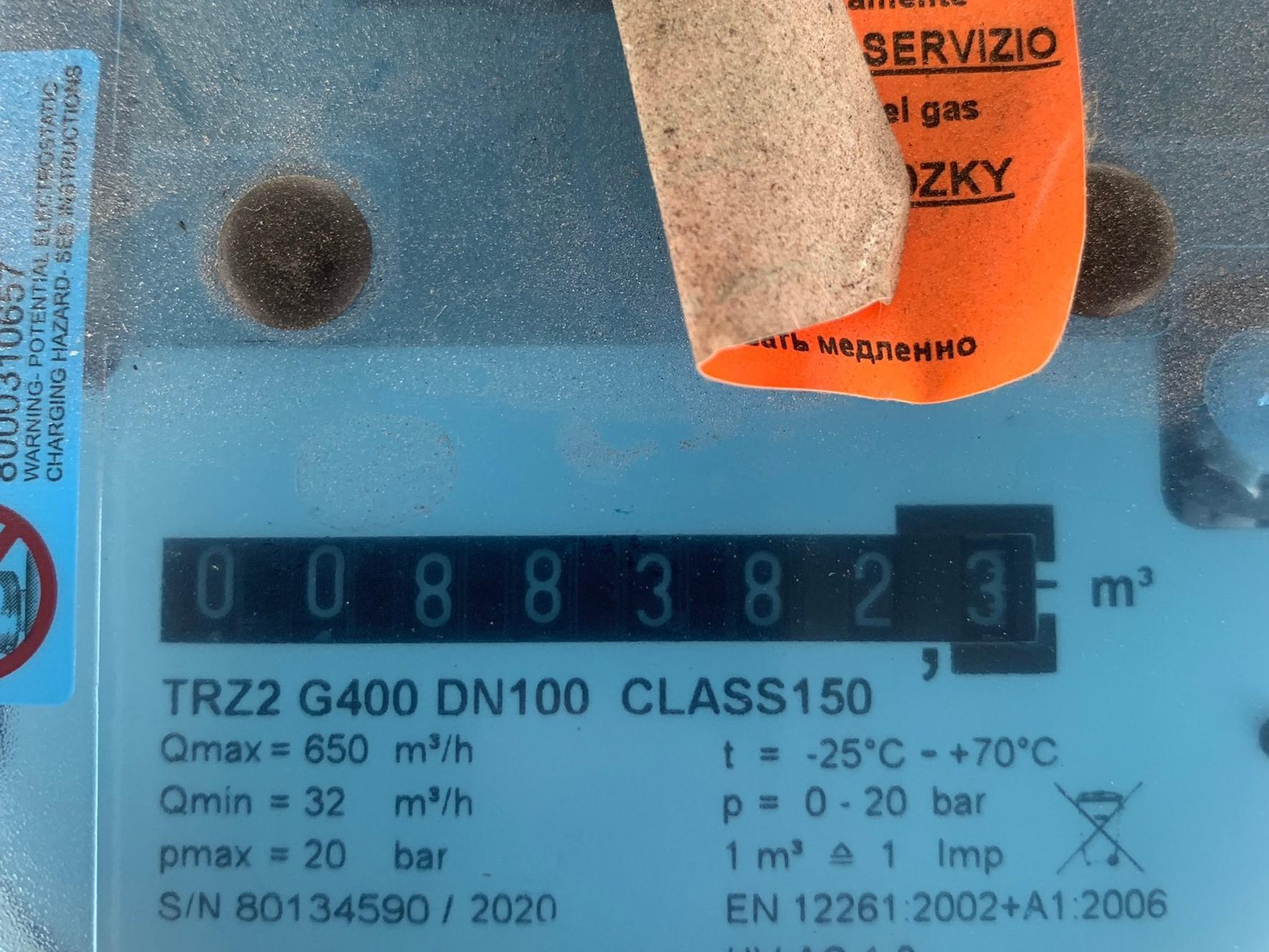analog_dial: (150, 474, 1073, 682)
